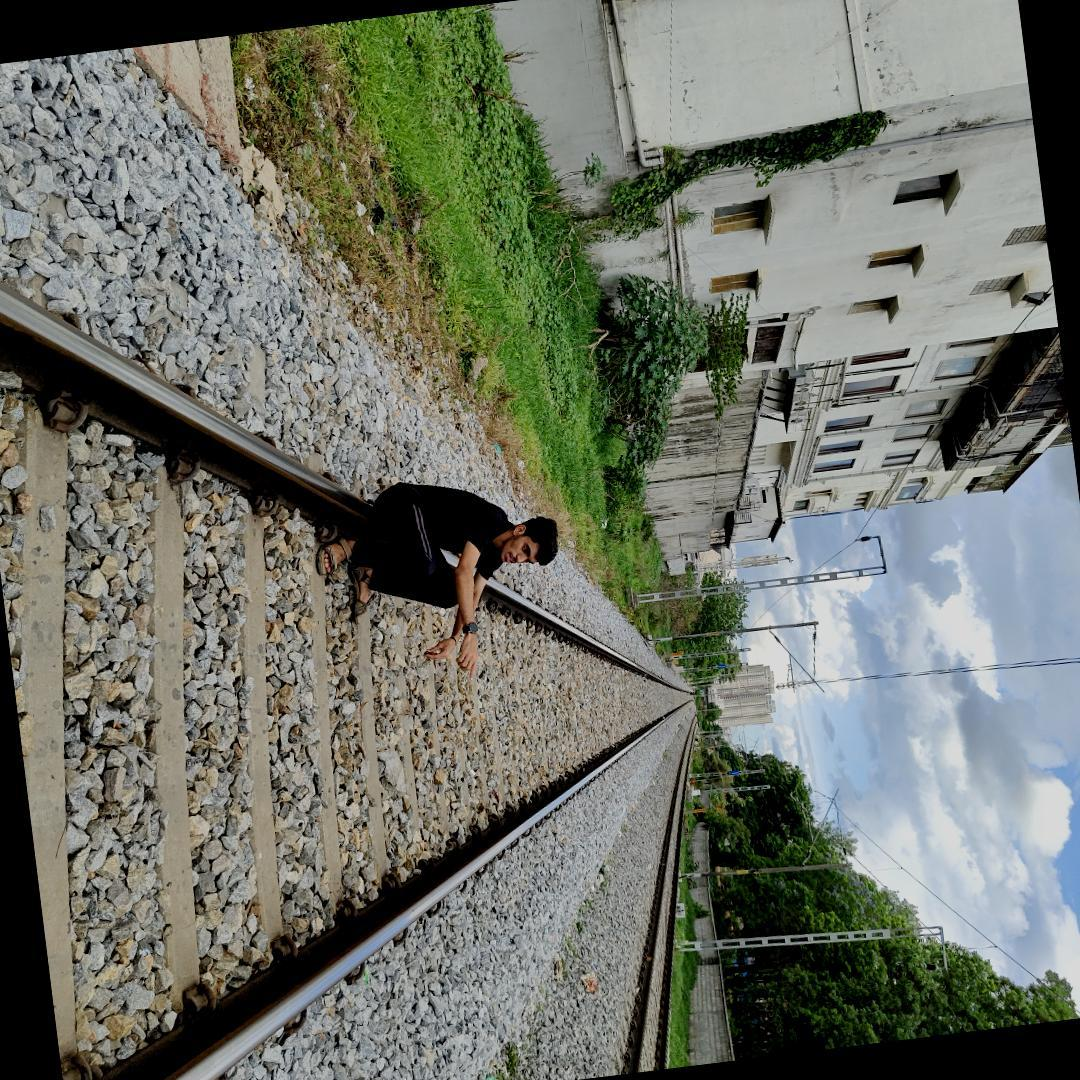sitting: (300, 453, 580, 698)
